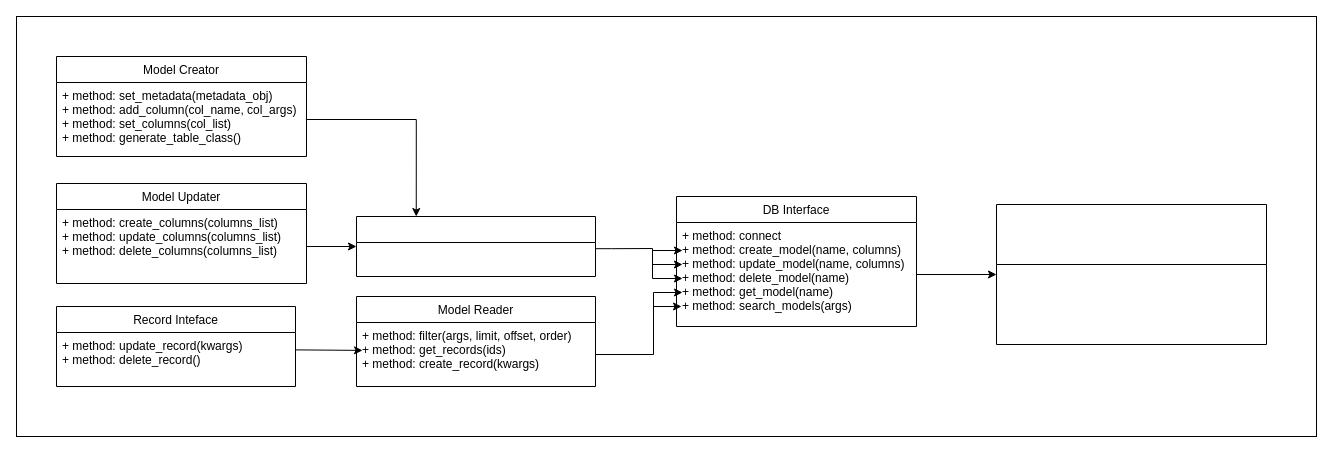
The diagram is 1333 pixels wide and 453 high, and some of its shapes have lost their labels. The shapes that lost their labels are listed below. From the top down, each one's centre as x and y in pixels, then its label:
point 476,246: Model Writer
point 1131,274: Kash ORM
